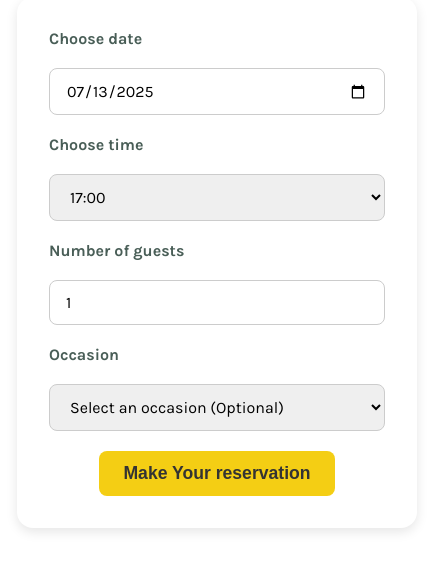
Test case: BookingForm Component Tests › BookingForm JavaScript Validation Functions › date input shows error for past date
Type "2020-01-01" into the date field labelled "Choose date" at point(217, 92), box x1=49 y1=68 x2=385 y2=115
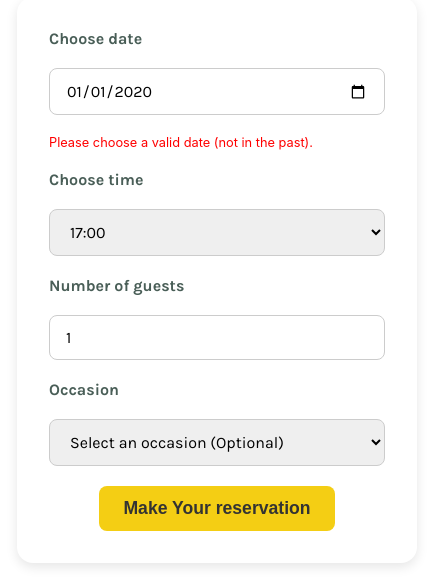
Result: the text "Please choose a valid date (not in the past)." is shown at x1=49 y1=135 x2=313 y2=150
